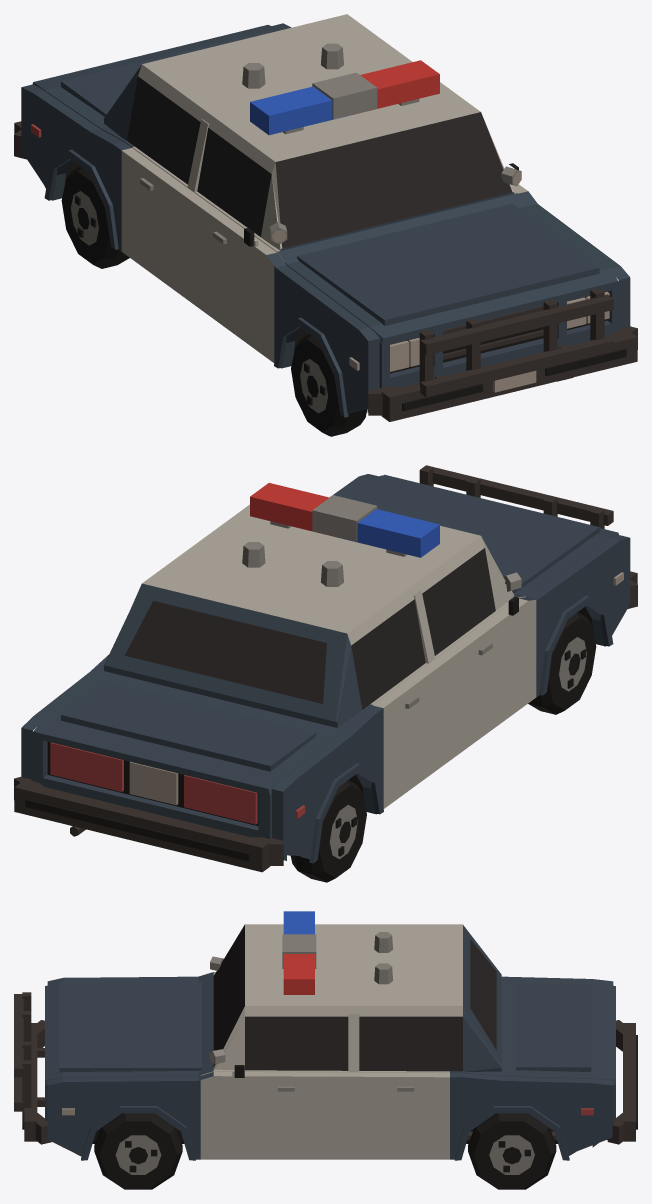
File: police-cruiser.glb
The picture shows the model from 3 angles, top to bottom: view 1: azimuth 30°, elevation 25°; view 2: azimuth 150°, elevation 25°; view 3: azimuth 270°, elevation 25°; orthographic projection. The views are drawn at different scales.
Bounding box in the file's own units: 1.95 × 1.69 × 4.81.
